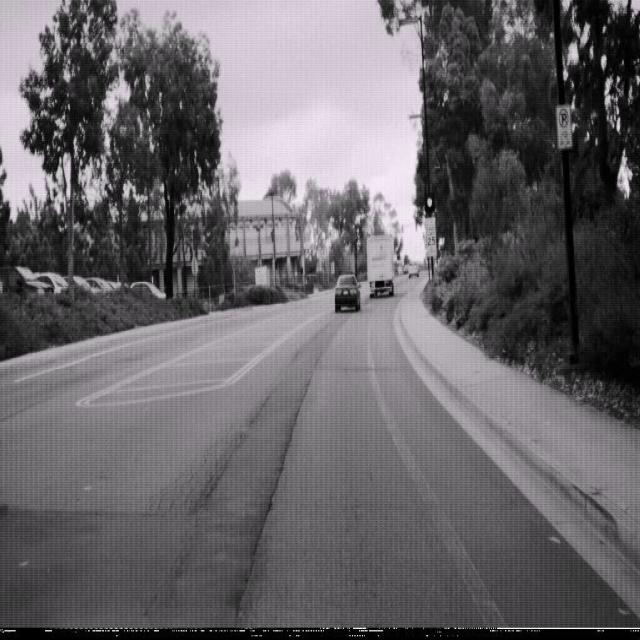speedLimit25: (424, 216, 437, 258)
